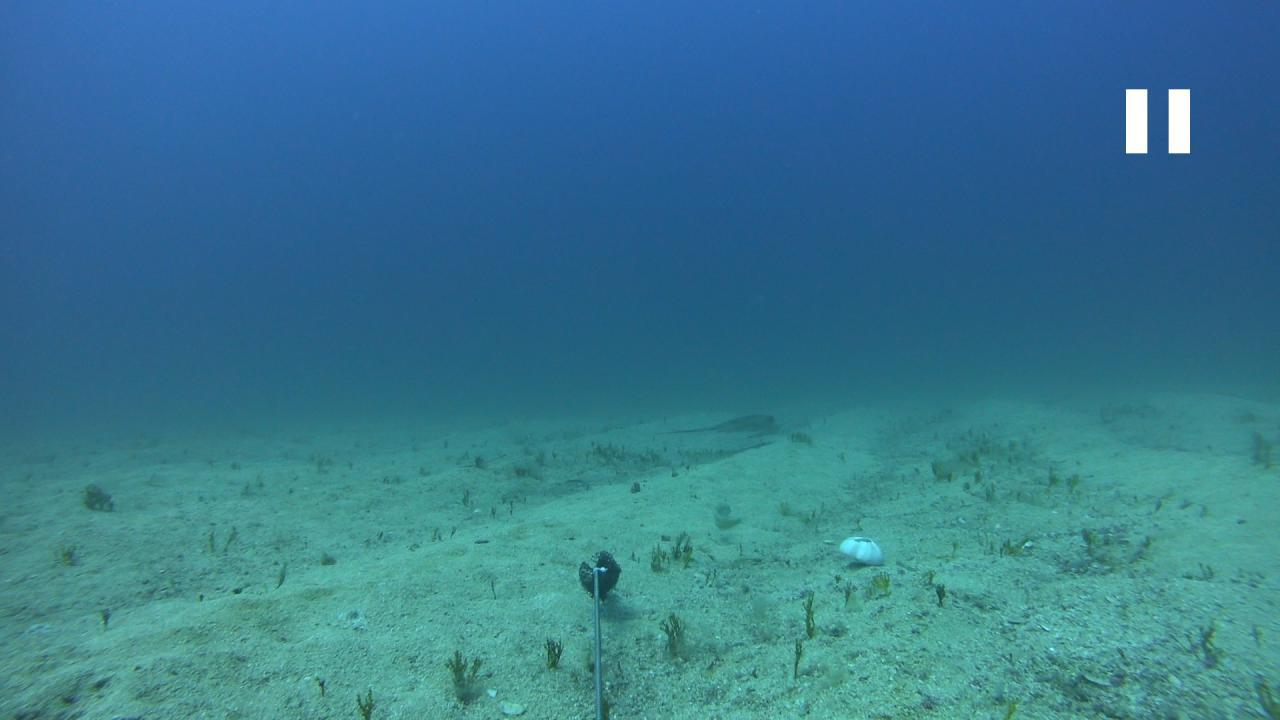dasyatis: (660, 413, 776, 434)
